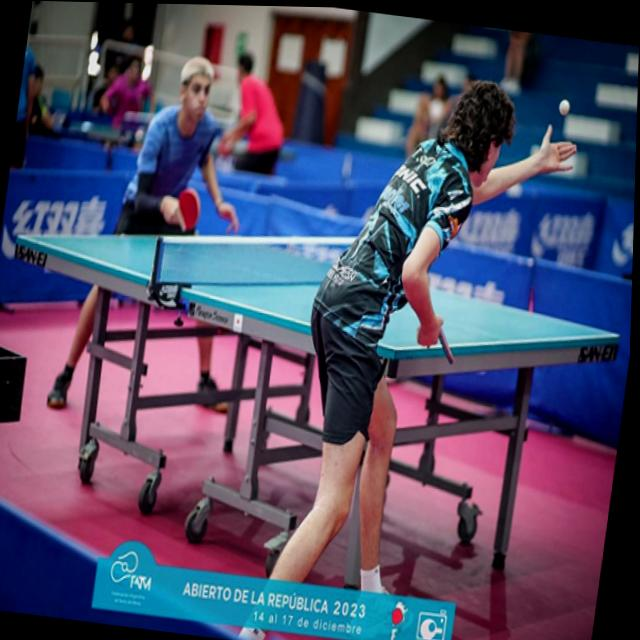TT Net: (149, 233, 405, 299)
TT Racket: (173, 182, 205, 235), (432, 321, 457, 370)
TT Table: (16, 237, 621, 349)
